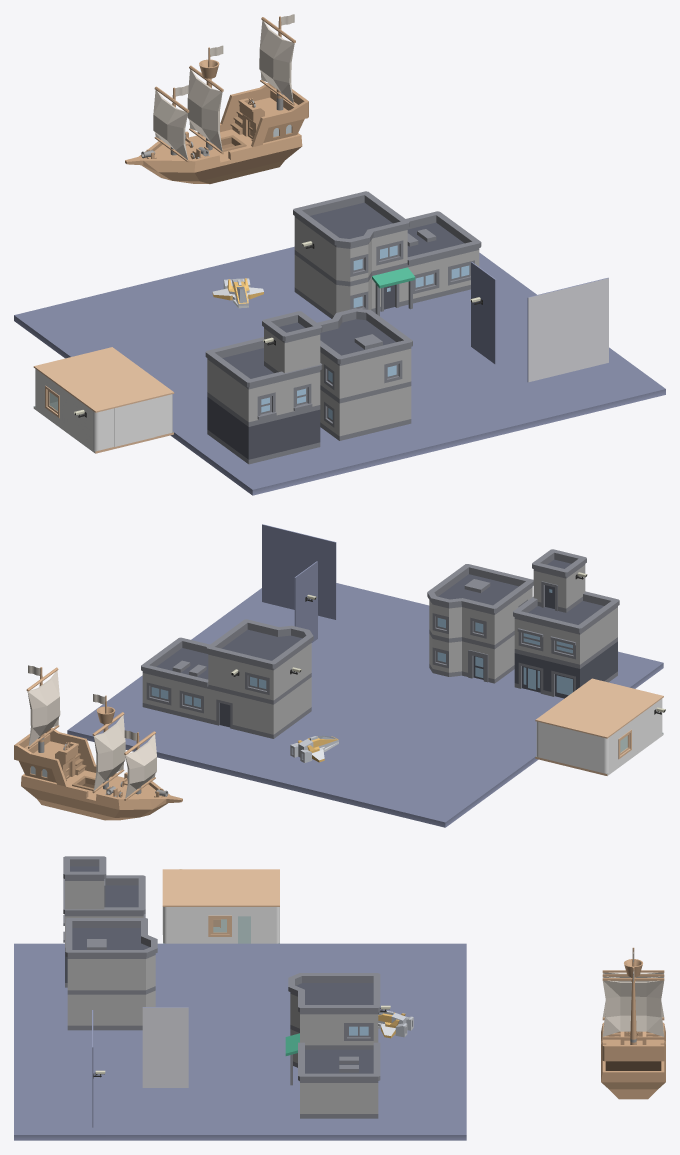
Rendered from notbadxx.glb.
3 renders of one model, top to bottom at view 1: azimuth 30°, elevation 25°; view 2: azimuth 150°, elevation 25°; view 3: azimuth 270°, elevation 25°, orthographic. The views are drawn at different scales.
Visible parts, largest first — view 1: floor, small_buildingE, small_buildingF, small_buildingB, ship_light_8angles, floor.001, floorFull(Clone), floor.002, sail_back 1, sail_middle 1, sail_front 1, wallCornerRond(Clone) (+4 smaller); view 2: floor, small_buildingE, small_buildingF, small_buildingB, ship_light_8angles, floor.001, floorFull(Clone), wallCornerRond(Clone).002, sail_back 1, sail_middle 1, floor.002, sail_front 1 (+5 smaller); view 3: floor, small_buildingE, small_buildingB, small_buildingF, floorFull(Clone), ship_light_8angles, floor.002, sail_back 1, wallWindow(Clone), wallCornerRond(Clone).005, wallCornerRond(Clone).007, craft_speederA (+1 smaller).
Boxes of the visible parts, x1,y1,x2,y2 form: floor: (14, 246, 665, 495); small_buildingE: (293, 191, 481, 318); small_buildingF: (205, 311, 322, 464); small_buildingB: (317, 308, 412, 440); ship_light_8angles: (125, 14, 308, 184); floor.001: (527, 277, 608, 382); floorFull(Clone): (33, 347, 174, 412); floor.002: (471, 262, 496, 364); sail_back 1: (259, 17, 295, 105); sail_middle 1: (187, 65, 223, 154); sail_front 1: (153, 86, 189, 162); wallCornerRond(Clone): (71, 395, 114, 450); floor: (67, 583, 663, 827); small_buildingE: (141, 619, 313, 738); small_buildingF: (513, 549, 619, 698); small_buildingB: (427, 564, 533, 683); ship_light_8angles: (14, 665, 182, 820); floor.001: (262, 524, 336, 619); floorFull(Clone): (535, 678, 663, 738); wallCornerRond(Clone).002: (552, 725, 616, 773); sail_back 1: (26, 667, 60, 748); sail_middle 1: (92, 712, 125, 793); floor.002: (294, 561, 317, 642); sail_front 1: (124, 731, 156, 800); floor: (14, 943, 466, 1140); small_buildingE: (285, 973, 380, 1118); small_buildingB: (65, 918, 157, 1030); small_buildingF: (63, 856, 145, 987); floorFull(Clone): (162, 869, 279, 906); ship_light_8angles: (601, 947, 665, 1099); floor.002: (142, 1007, 188, 1087); sail_back 1: (602, 978, 664, 1039); wallWindow(Clone): (195, 907, 237, 943); wallCornerRond(Clone).005: (163, 907, 195, 943); wallCornerRond(Clone).007: (251, 907, 279, 943); craft_speederA: (378, 1011, 413, 1038).
Bounding box in the file's own units: 73.02 × 21.27 × 86.43.
58 materials, 3 textured.
